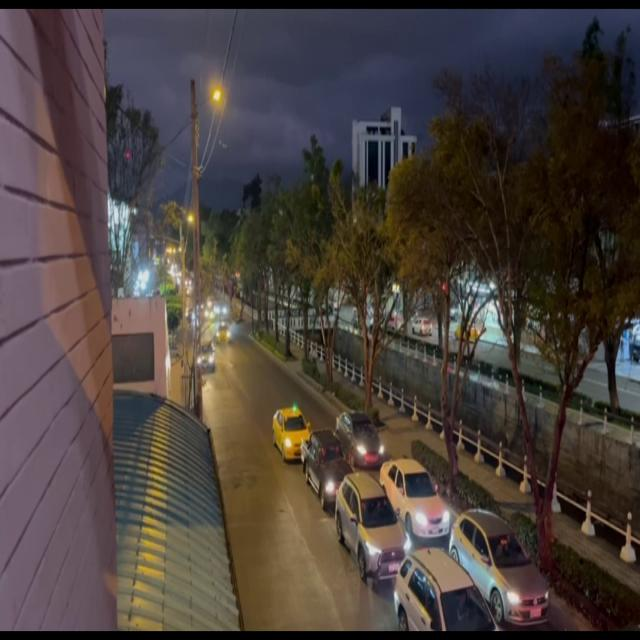CMT: (304, 431, 351, 507)
